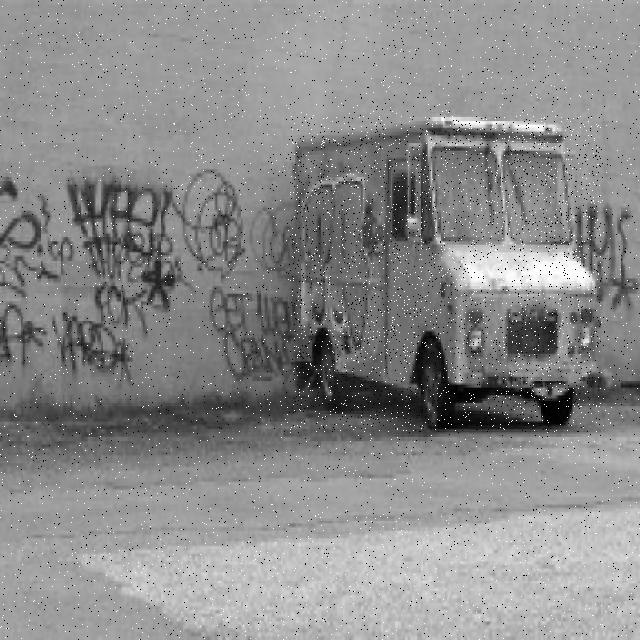Box Truck: (290, 116, 601, 432)
